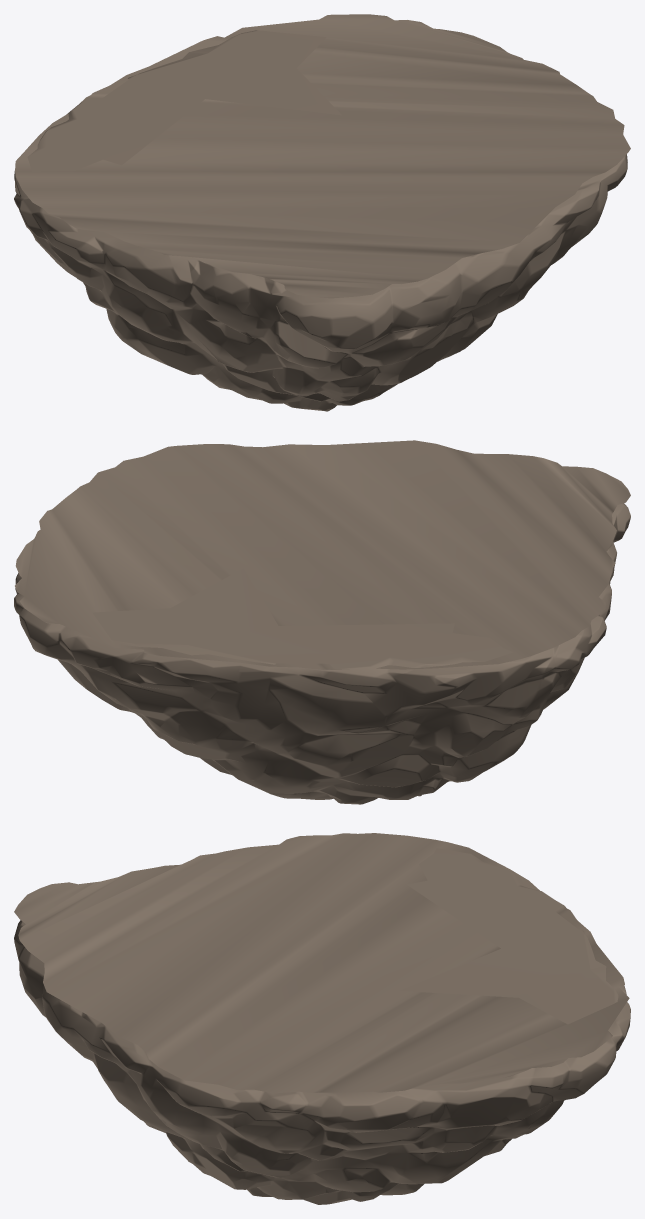
Rendered from IlhaM1.fbx.
3 renders of one model, top to bottom at view 1: azimuth 30°, elevation 25°; view 2: azimuth 150°, elevation 25°; view 3: azimuth 270°, elevation 25°, orthographic.
Visible parts, largest first — view 1: IlhaM1Colisor, IlhaM1; view 2: IlhaM1Colisor, IlhaM1; view 3: IlhaM1Colisor, IlhaM1.
Boxes of the visible parts, bbox=[...] form: IlhaM1Colisor: bbox=[15, 14, 630, 298]; IlhaM1: bbox=[14, 30, 627, 411]; IlhaM1Colisor: bbox=[15, 440, 630, 669]; IlhaM1: bbox=[14, 503, 630, 804]; IlhaM1Colisor: bbox=[14, 833, 629, 1093]; IlhaM1: bbox=[14, 848, 630, 1204].
Bounding box in the file's own units: 3736 × 1537 × 3677.
